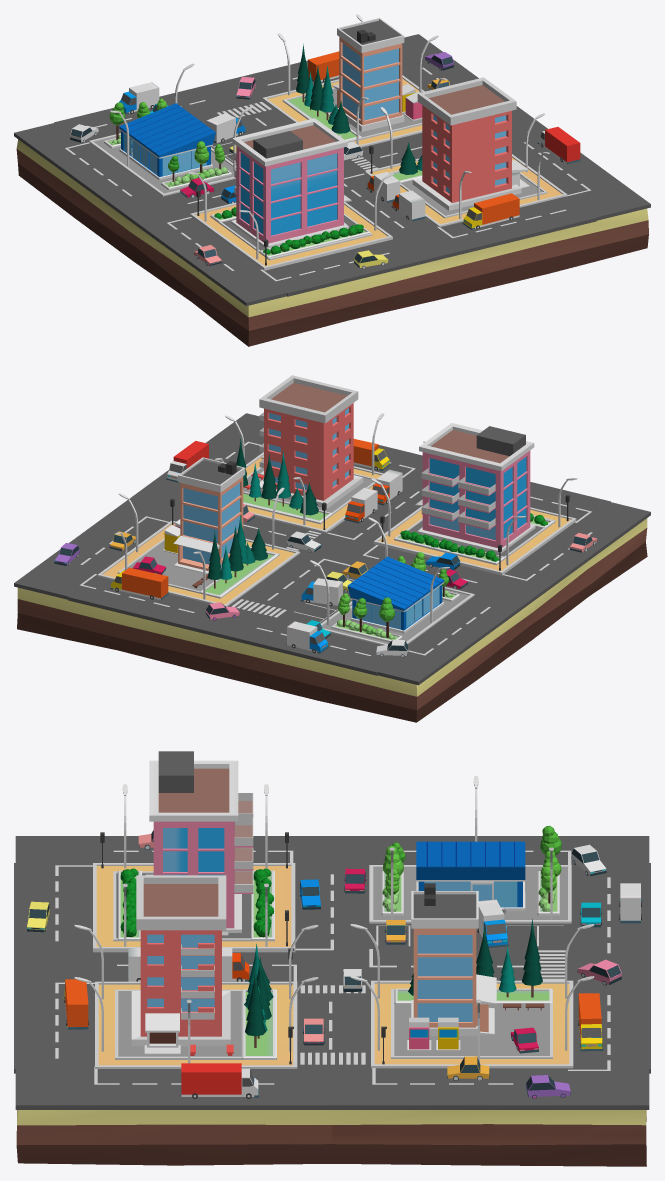
File: city.glb
3 renders of one model, top to bottom at view 1: azimuth 30°, elevation 25°; view 2: azimuth 150°, elevation 25°; view 3: azimuth 270°, elevation 25°, orthographic. The views are drawn at different scales.
Parts seen in each view (by area): view 1: ROAD.124, Floor_6.130, House.52, House_2.55, House_3.96, Shop.98, Floor.45, ROAD_Lines_12.128, Floor_4_4.106, Floor_2.63, Car_08_3.22, Floor_3.85 (+11 smaller); view 2: ROAD.124, Floor_6.130, House.52, House_2.55, House_3.96, Shop.98, Floor.45, Floor_3.85, ROAD_Lines_12.128, Floor_4_4.106, Floor_4_3.84, Car_08_5.30 (+14 smaller); view 3: ROAD.124, Floor_6.130, House_2.55, House.52, House_3.96, Shop.98, Floor_3.85, Floor_2.63, Floor.45, Floor_4_3.84, ROAD_Lines_12.128, Floor_4_4.106 (+25 smaller).
Boxes of the visible parts, bbox=[...] form: ROAD.124: bbox=[14, 34, 650, 305]; Floor_6.130: bbox=[16, 139, 648, 346]; House.52: bbox=[231, 118, 351, 248]; House_2.55: bbox=[412, 77, 529, 210]; House_3.96: bbox=[332, 18, 404, 131]; Shop.98: bbox=[119, 103, 215, 180]; Floor.45: bbox=[190, 202, 392, 270]; ROAD_Lines_12.128: bbox=[65, 67, 591, 281]; Floor_4_4.106: bbox=[89, 133, 236, 196]; Floor_2.63: bbox=[365, 154, 567, 227]; Car_08_3.22: bbox=[462, 193, 519, 229]; Floor_3.85: bbox=[262, 75, 424, 147]; ROAD.124: bbox=[14, 413, 650, 685]; Floor_6.130: bbox=[17, 518, 647, 722]; House.52: bbox=[415, 423, 535, 553]; House_2.55: bbox=[259, 375, 363, 508]; House_3.96: bbox=[173, 457, 245, 573]; Shop.98: bbox=[347, 556, 444, 633]; Floor.45: bbox=[373, 506, 576, 575]; Floor_3.85: bbox=[97, 520, 300, 606]; ROAD_Lines_12.128: bbox=[80, 441, 592, 655]; Floor_4_4.106: bbox=[321, 586, 474, 645]; Floor_4_3.84: bbox=[117, 538, 279, 598]; Car_08_5.30: bbox=[110, 567, 168, 599]; ROAD.124: bbox=[14, 836, 650, 1109]; Floor_6.130: bbox=[16, 1110, 646, 1166]; House_2.55: bbox=[131, 875, 230, 1054]; House.52: bbox=[146, 751, 253, 935]; House_3.96: bbox=[411, 883, 496, 1036]; Shop.98: bbox=[416, 841, 525, 911]; Floor_3.85: bbox=[371, 980, 573, 1068]; Floor_2.63: bbox=[95, 981, 297, 1068]; Floor.45: bbox=[93, 863, 295, 952]; Floor_4_3.84: bbox=[391, 989, 552, 1058]; ROAD_Lines_12.128: bbox=[55, 850, 610, 1084]; Floor_4_4.106: bbox=[369, 865, 571, 923].
Bounding box in the file's own units: 2192 × 744 × 2192.
99 materials, 99 textured.
